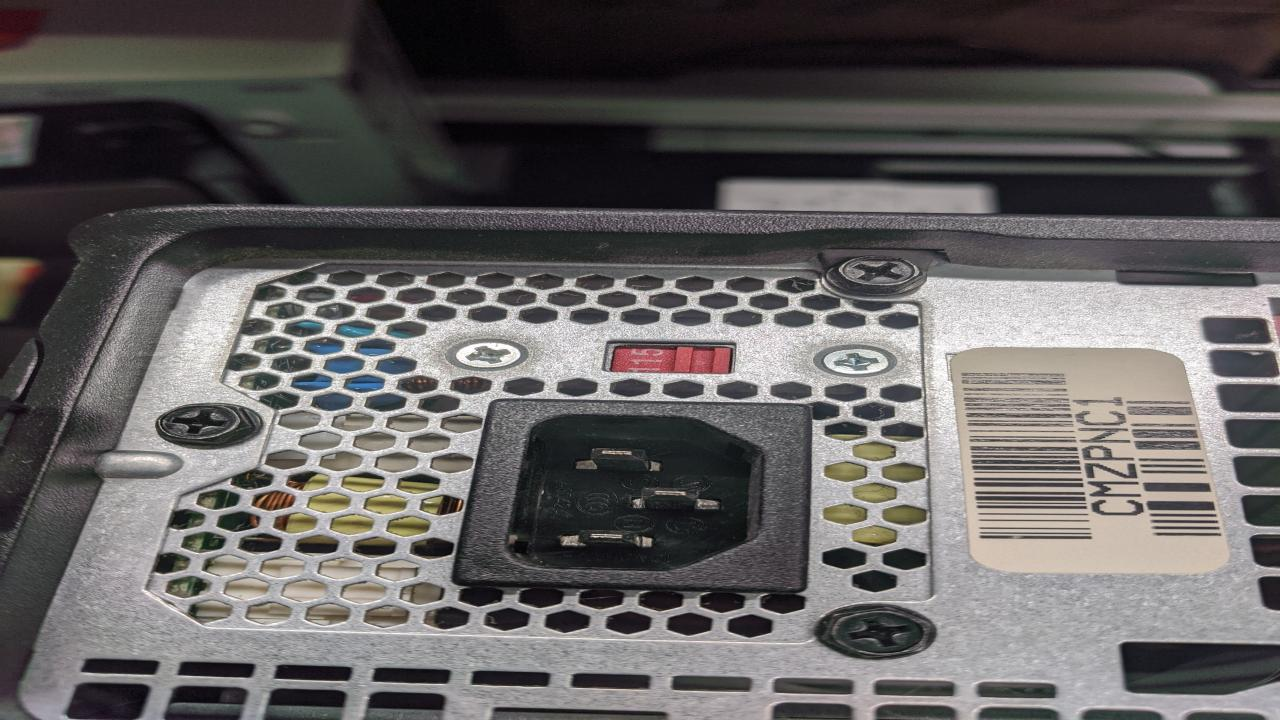CRS: (821, 605, 938, 660), (157, 402, 253, 445), (825, 256, 926, 295), (448, 339, 536, 373), (823, 345, 902, 379)
